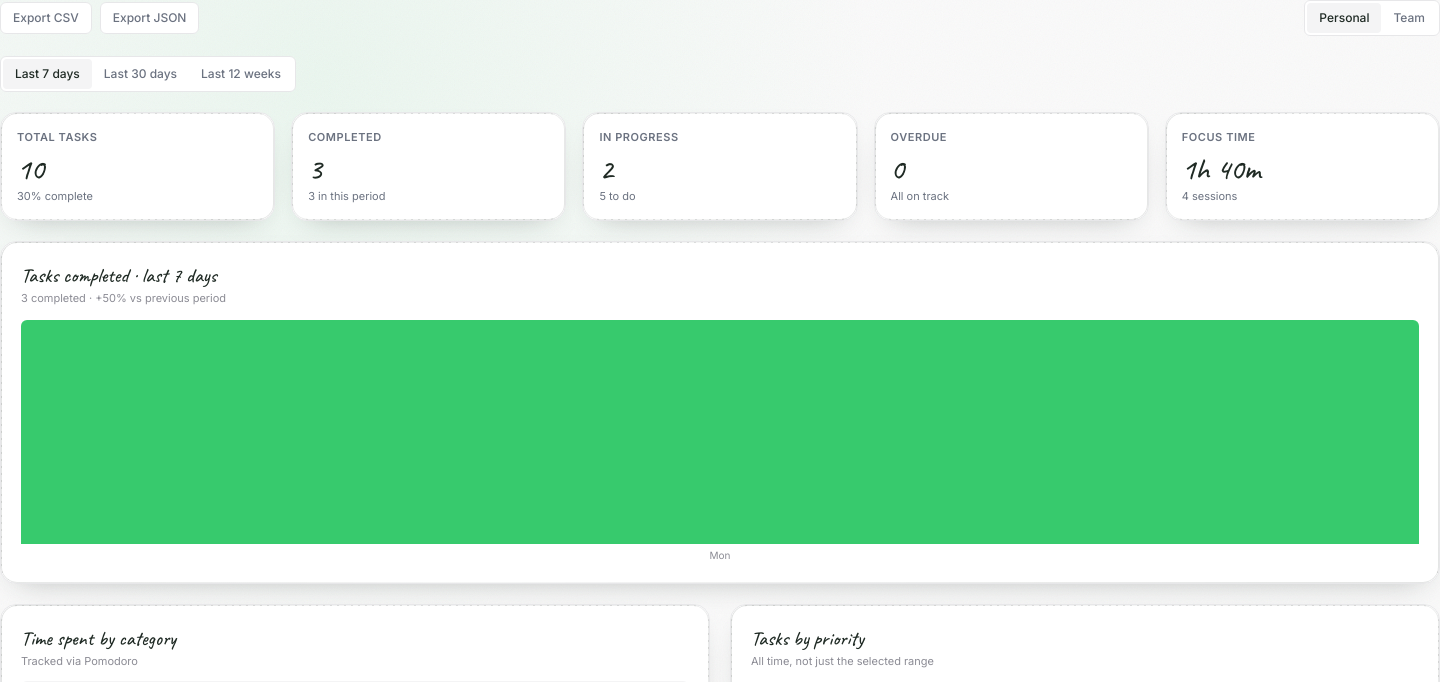
Scenario: AnalyticsDashboard — team analytics gate › hides TeamAnalyticsView for free tier and shows the upgrade prompt
The image size is (1440, 682).
Note: Switch to the Team scope.
Click the button "Team" at (1409, 18), box left=1382, top=3, right=1437, bottom=33
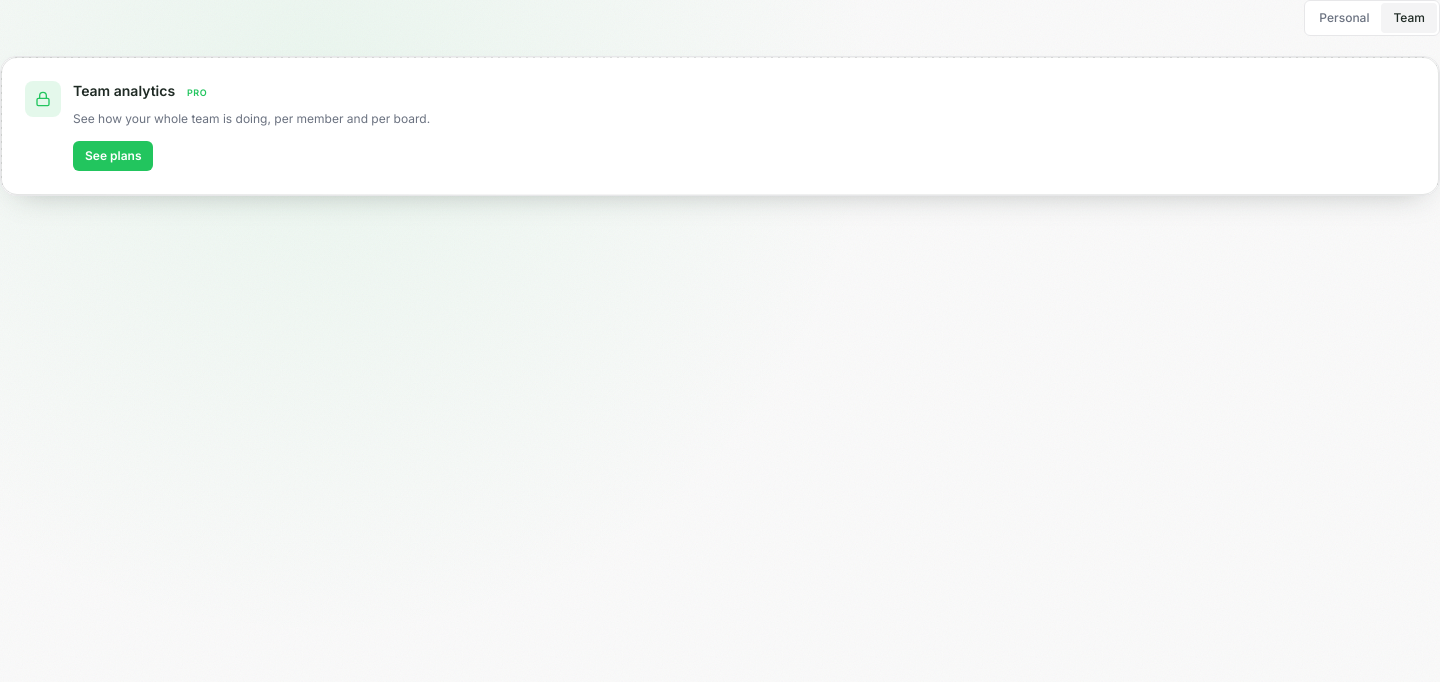
Expected: the button "See plans" is shown, left=73, top=140, right=154, bottom=170
